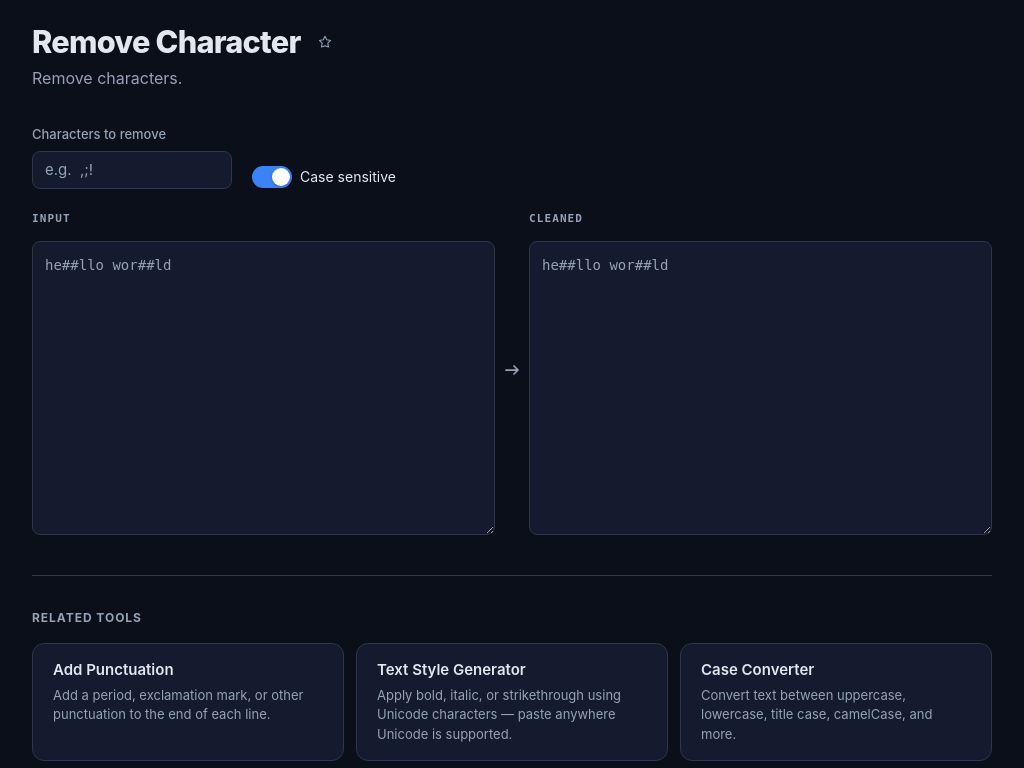
RemoveCharacter › shows input unchanged when no chars specified
The width and height of the screenshot is (1024, 768).
In the text box named "input": (264, 388) 32,240 -> 495,535, type "hello"
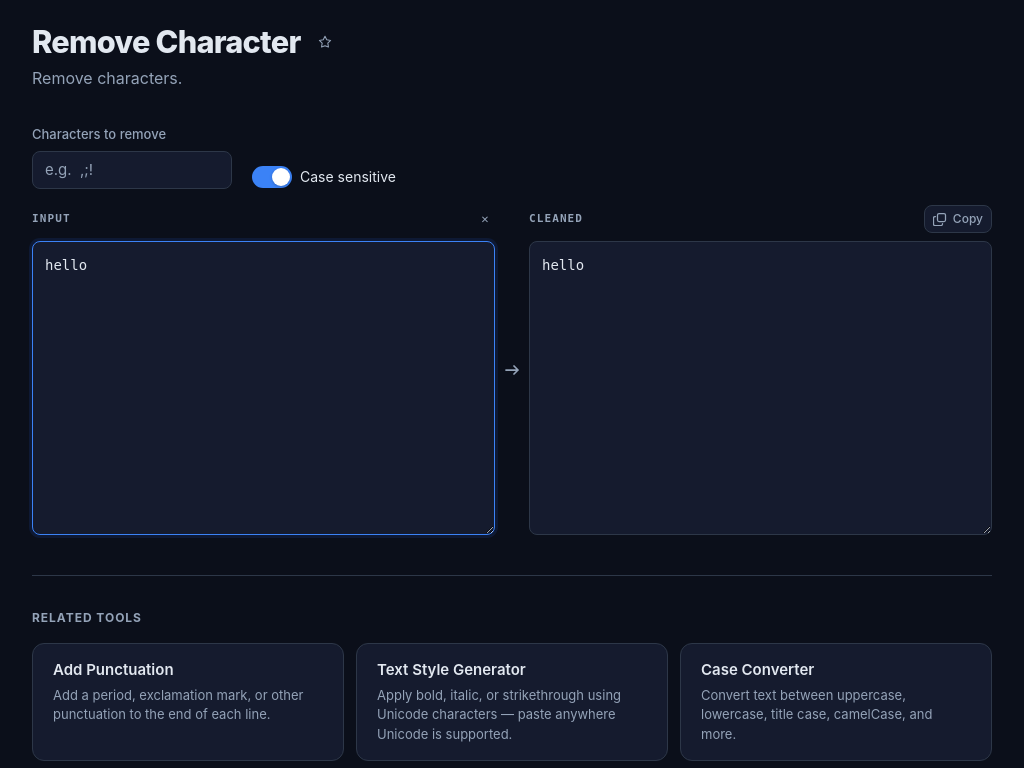
Expected: the text box named "cleaned" holds "hello", 529,240 -> 992,535
